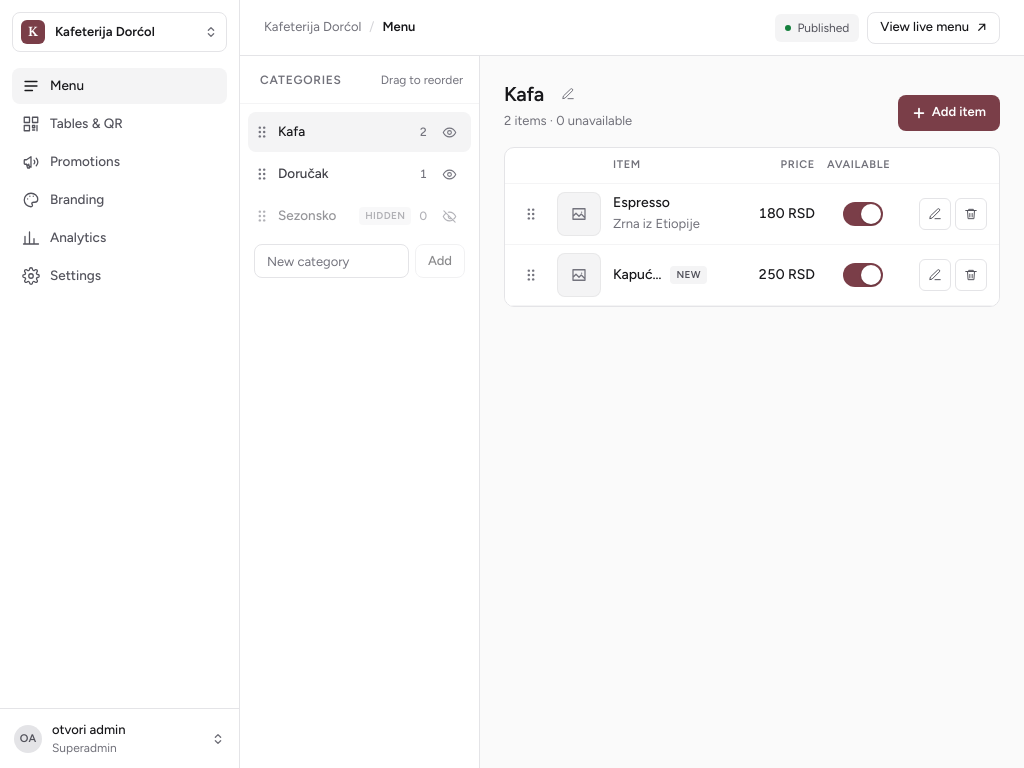
Test: superadmin area (Phase 13a) › opens its own shell from the switcher, with nothing of the last venue in it
Expected: the heading "Kafa" is shown, [504,82,544,106]
Click the button "K Kafeterija Dorćol": coordinates (120, 32) [12,12,227,52]
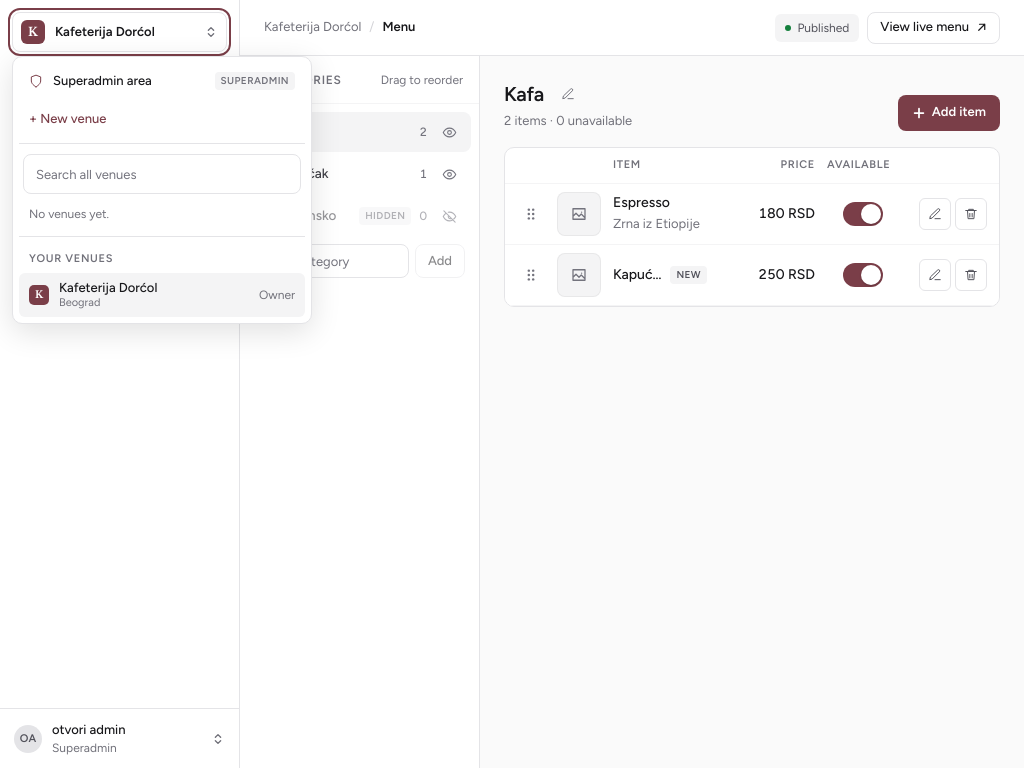
Now the text "SUPERADMIN" is shown, box [215,72,295,90]
Now the search field labelled "Search all venues" is shown, box [23,154,301,194]
Click the menu item "Superadmin area SUPERADMIN": coordinates (102, 80) [19,63,305,99]
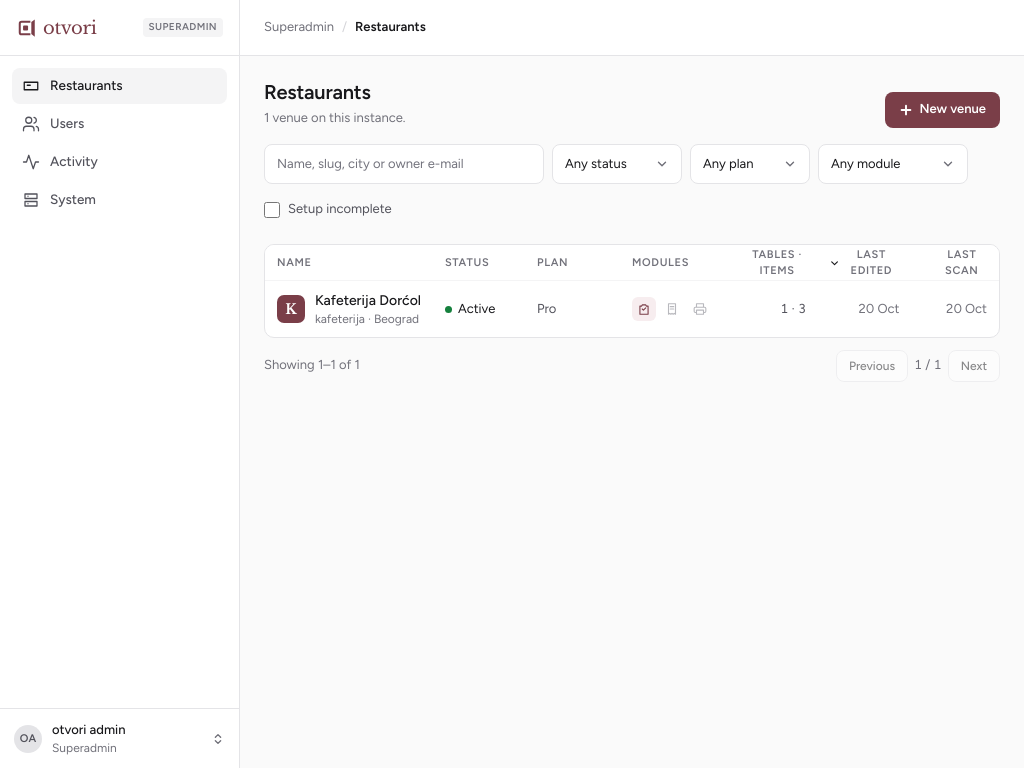
Now the heading "Restaurants" is shown, box [264,80,371,104]
Now the link with aria-label "Open Kafeterija Dorćol" is shown, box [265,281,999,337]
Now the text "Beograd" is shown, box [365,312,419,326]
